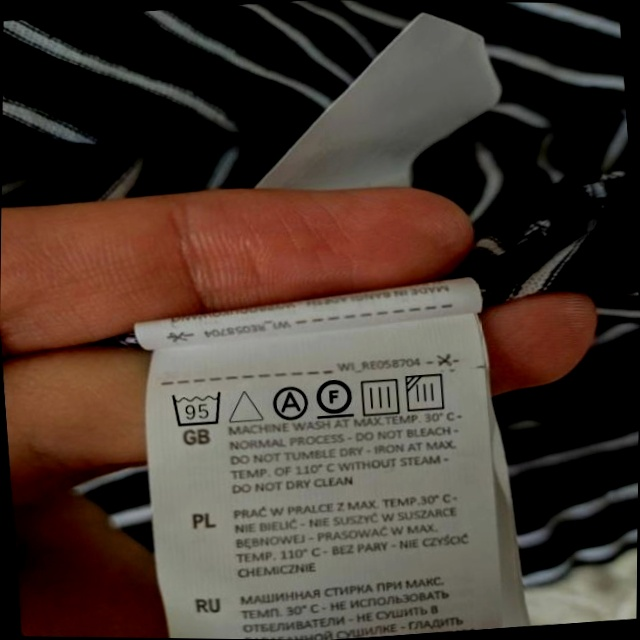95C: (169, 387, 226, 429)
bleach: (227, 384, 264, 427)
drip_dry: (358, 374, 403, 418)
drip_dry_in_shade: (404, 370, 451, 416)
dry_clean: (269, 384, 309, 422)
dry_clean_petrol_only: (314, 374, 355, 421)
